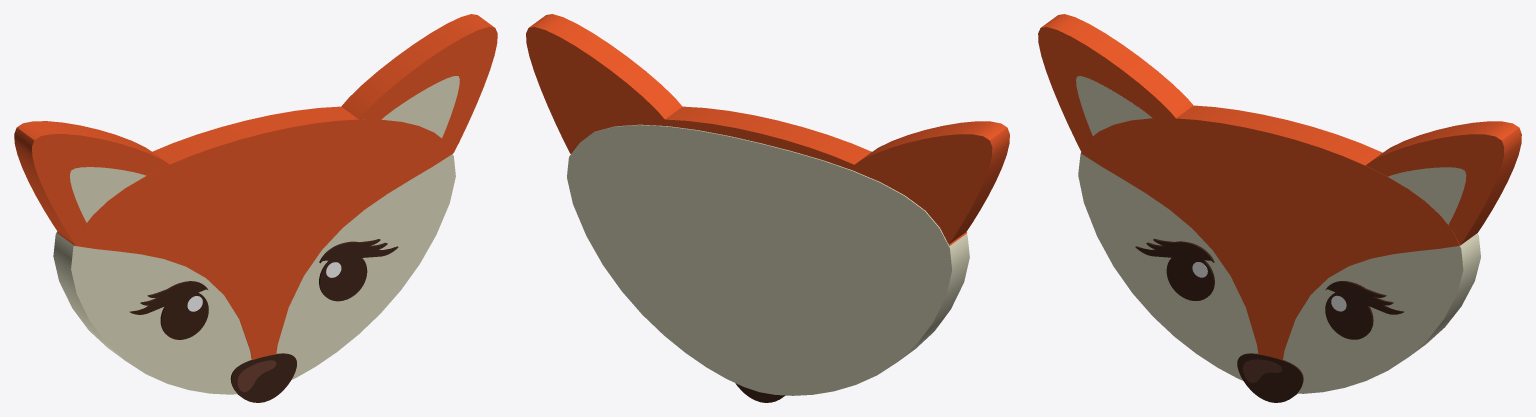
Rendered from Tilki.fbx.
3 views of the same model, side by side, from view 1: azimuth 30°, elevation 25°; view 2: azimuth 150°, elevation 25°; view 3: azimuth 330°, elevation 25° (orthographic).
Visible parts, largest first — view 1: polySurface67, polySurface71, polySurface69, polySurface82, polySurface79, polySurface73; view 2: polySurface67, polySurface71, polySurface69; view 3: polySurface67, polySurface69, polySurface71, polySurface79, polySurface82, polySurface73.
Part boxes in pixels (<box>): polySurface67: <box>53,106,455,394</box>; polySurface71: <box>341,14,497,152</box>; polySurface69: <box>14,121,169,243</box>; polySurface82: <box>319,239,398,301</box>; polySurface79: <box>129,281,208,339</box>; polySurface73: <box>230,353,296,402</box>; polySurface67: <box>567,106,969,395</box>; polySurface71: <box>526,14,682,153</box>; polySurface69: <box>854,121,1009,244</box>; polySurface67: <box>1078,105,1480,393</box>; polySurface69: <box>1038,14,1193,151</box>; polySurface71: <box>1365,121,1521,245</box>; polySurface79: <box>1135,238,1214,300</box>; polySurface82: <box>1325,281,1404,339</box>; polySurface73: <box>1237,353,1303,402</box>.
Size of the model in its own units: 15.21 by 10 by 1.07.
